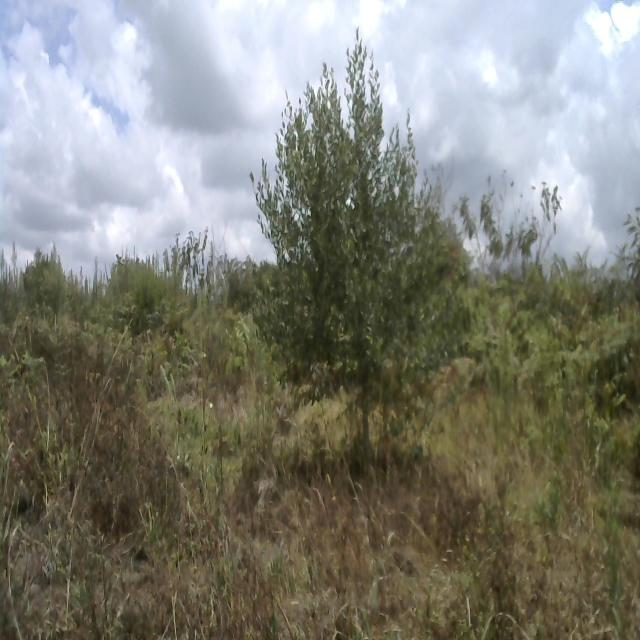Olea europea -africana-: (253, 16, 479, 452)
